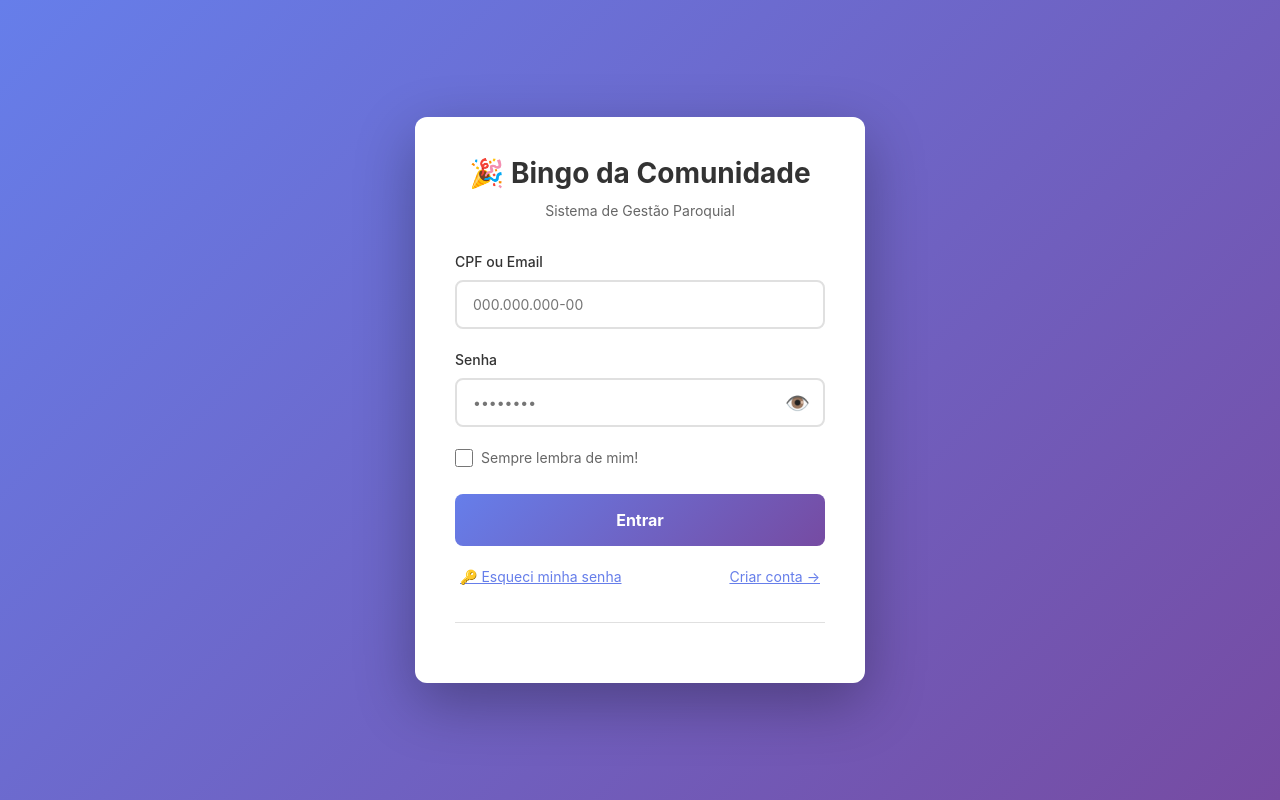
Login (público) › exibe erro para campos vazios
Click the button "Entrar": coordinates (640, 520) left=455, top=494, right=825, bottom=546
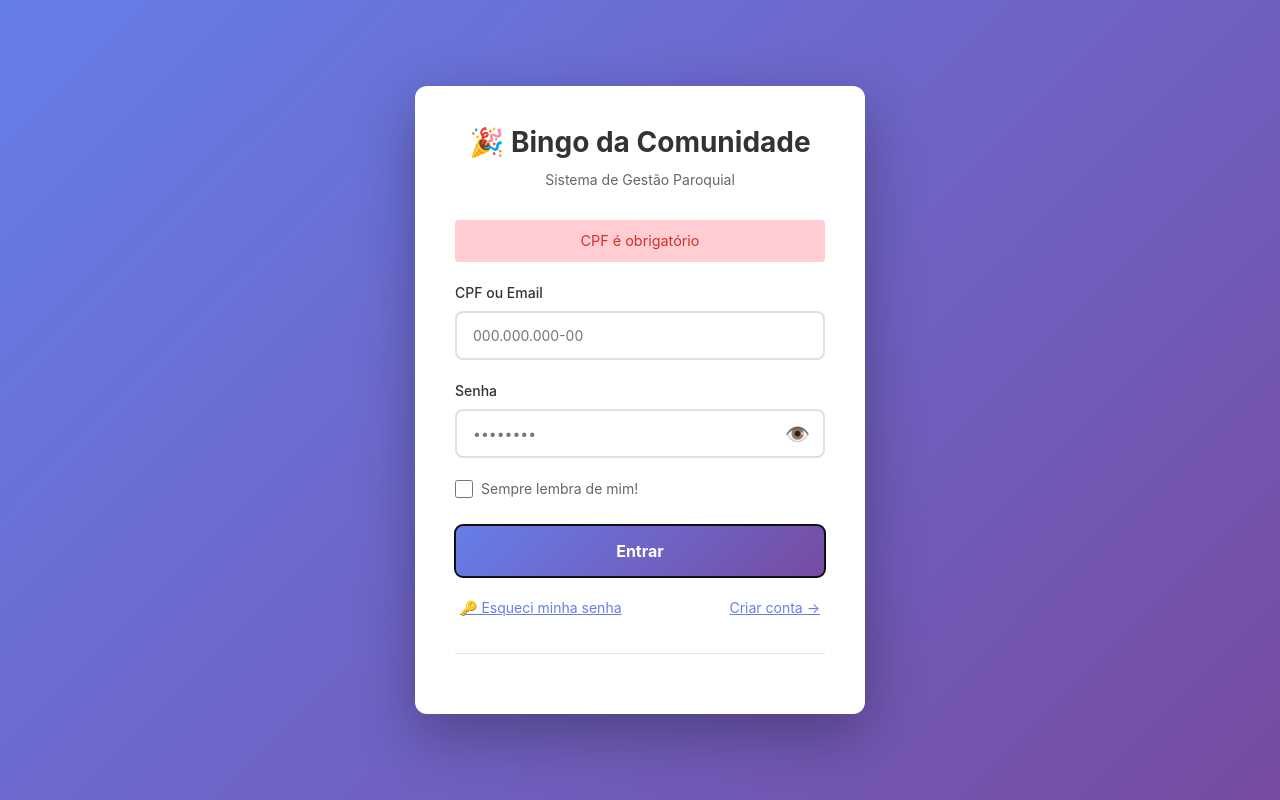
Expected: the text "CPF é obrigatório" is shown, left=455, top=220, right=825, bottom=262
